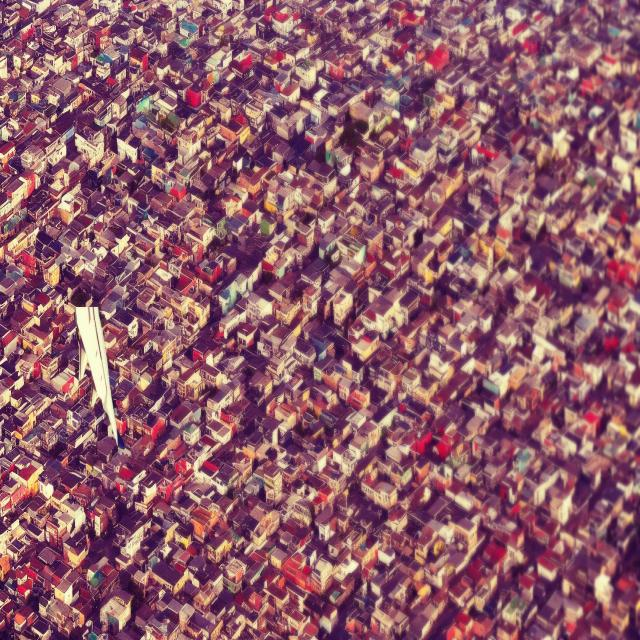airplane: (75, 307, 126, 450)
